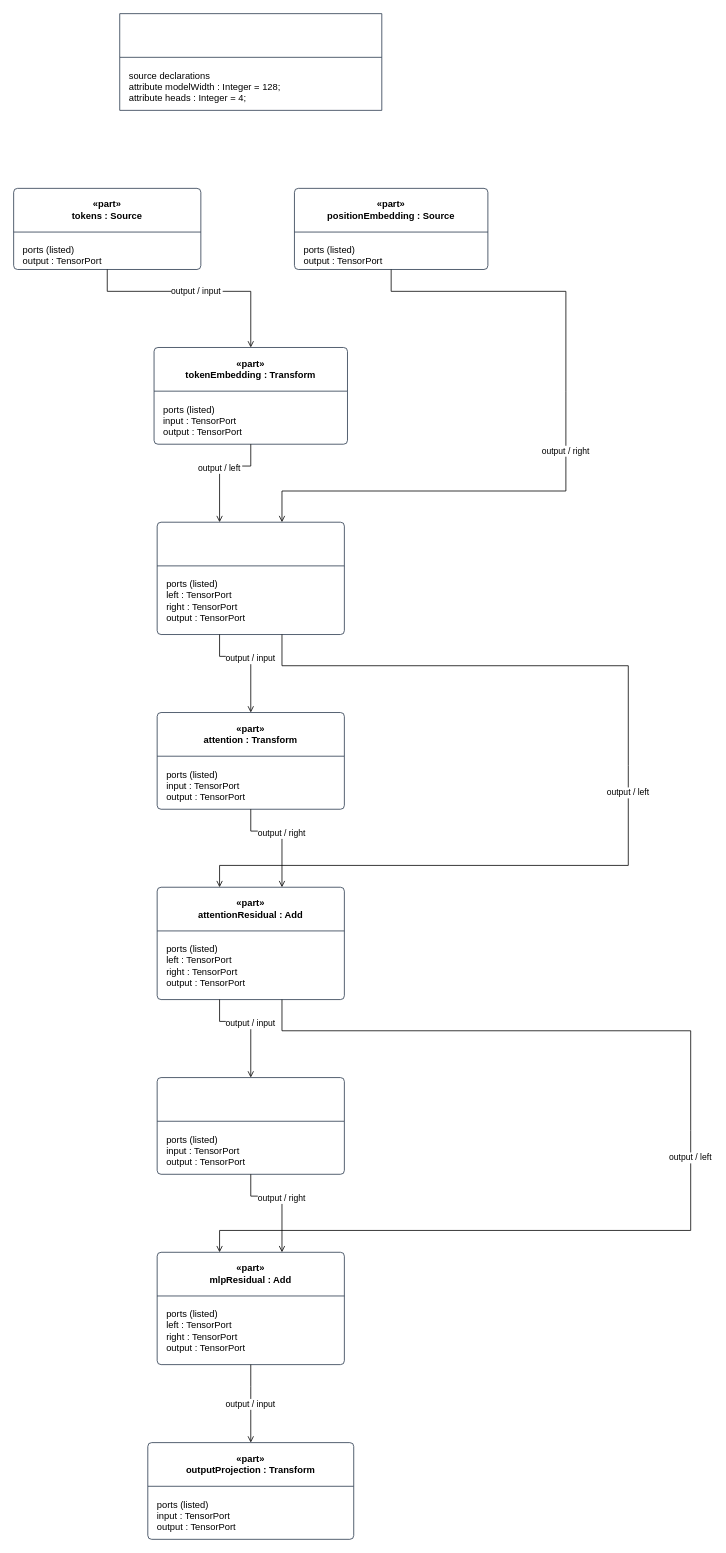
This 726x1553 diagram has some shape labels left out. The box of each missing label's shape, as (x1, y1, x2, y2) in pixels:
«part def» NativeNetwork::Transformer: (119, 13, 382, 110)
«part» embeddingAdd : Add: (156, 521, 344, 635)
«part» mlp : Transform: (156, 1077, 344, 1174)
